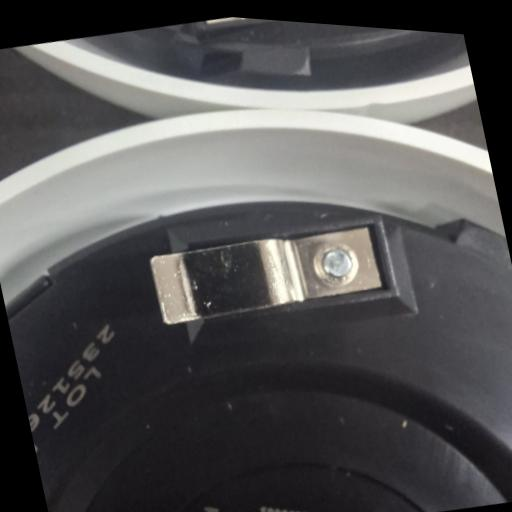yaysiz: (144, 201, 392, 344)
